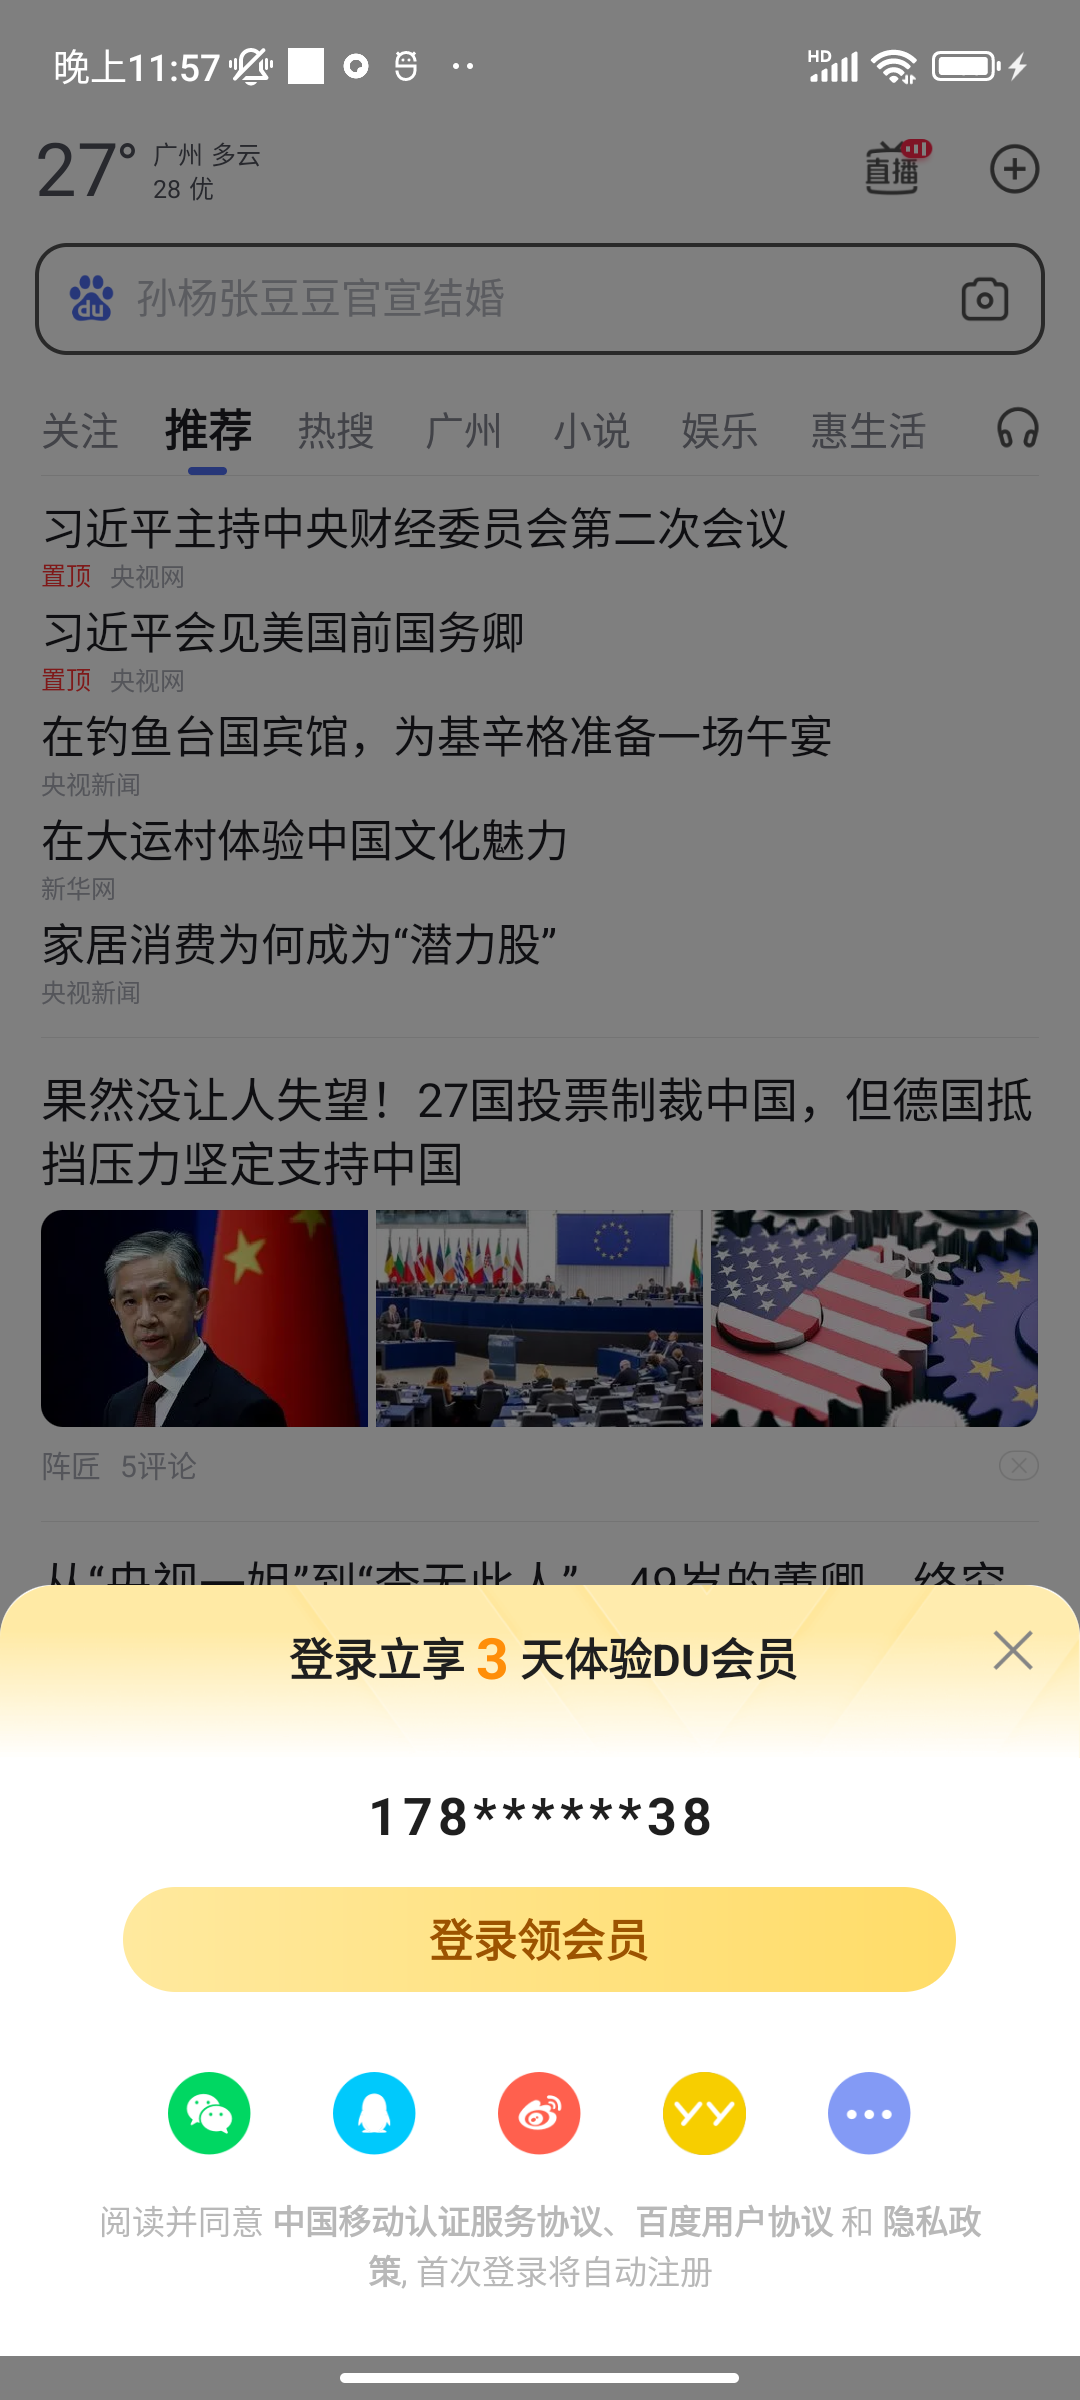ui_group: (2, 1583, 1080, 2356)
